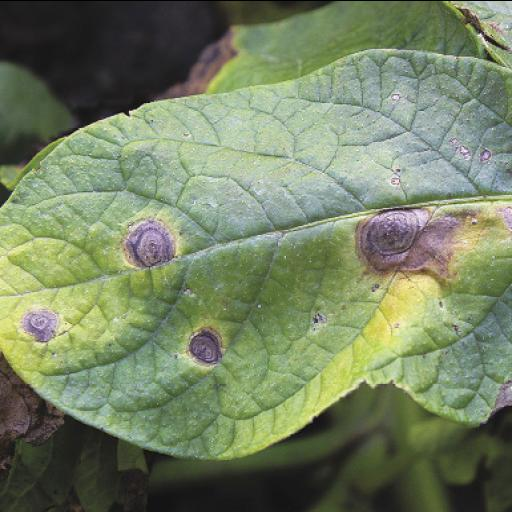Early Blight: (2, 47, 512, 459)
